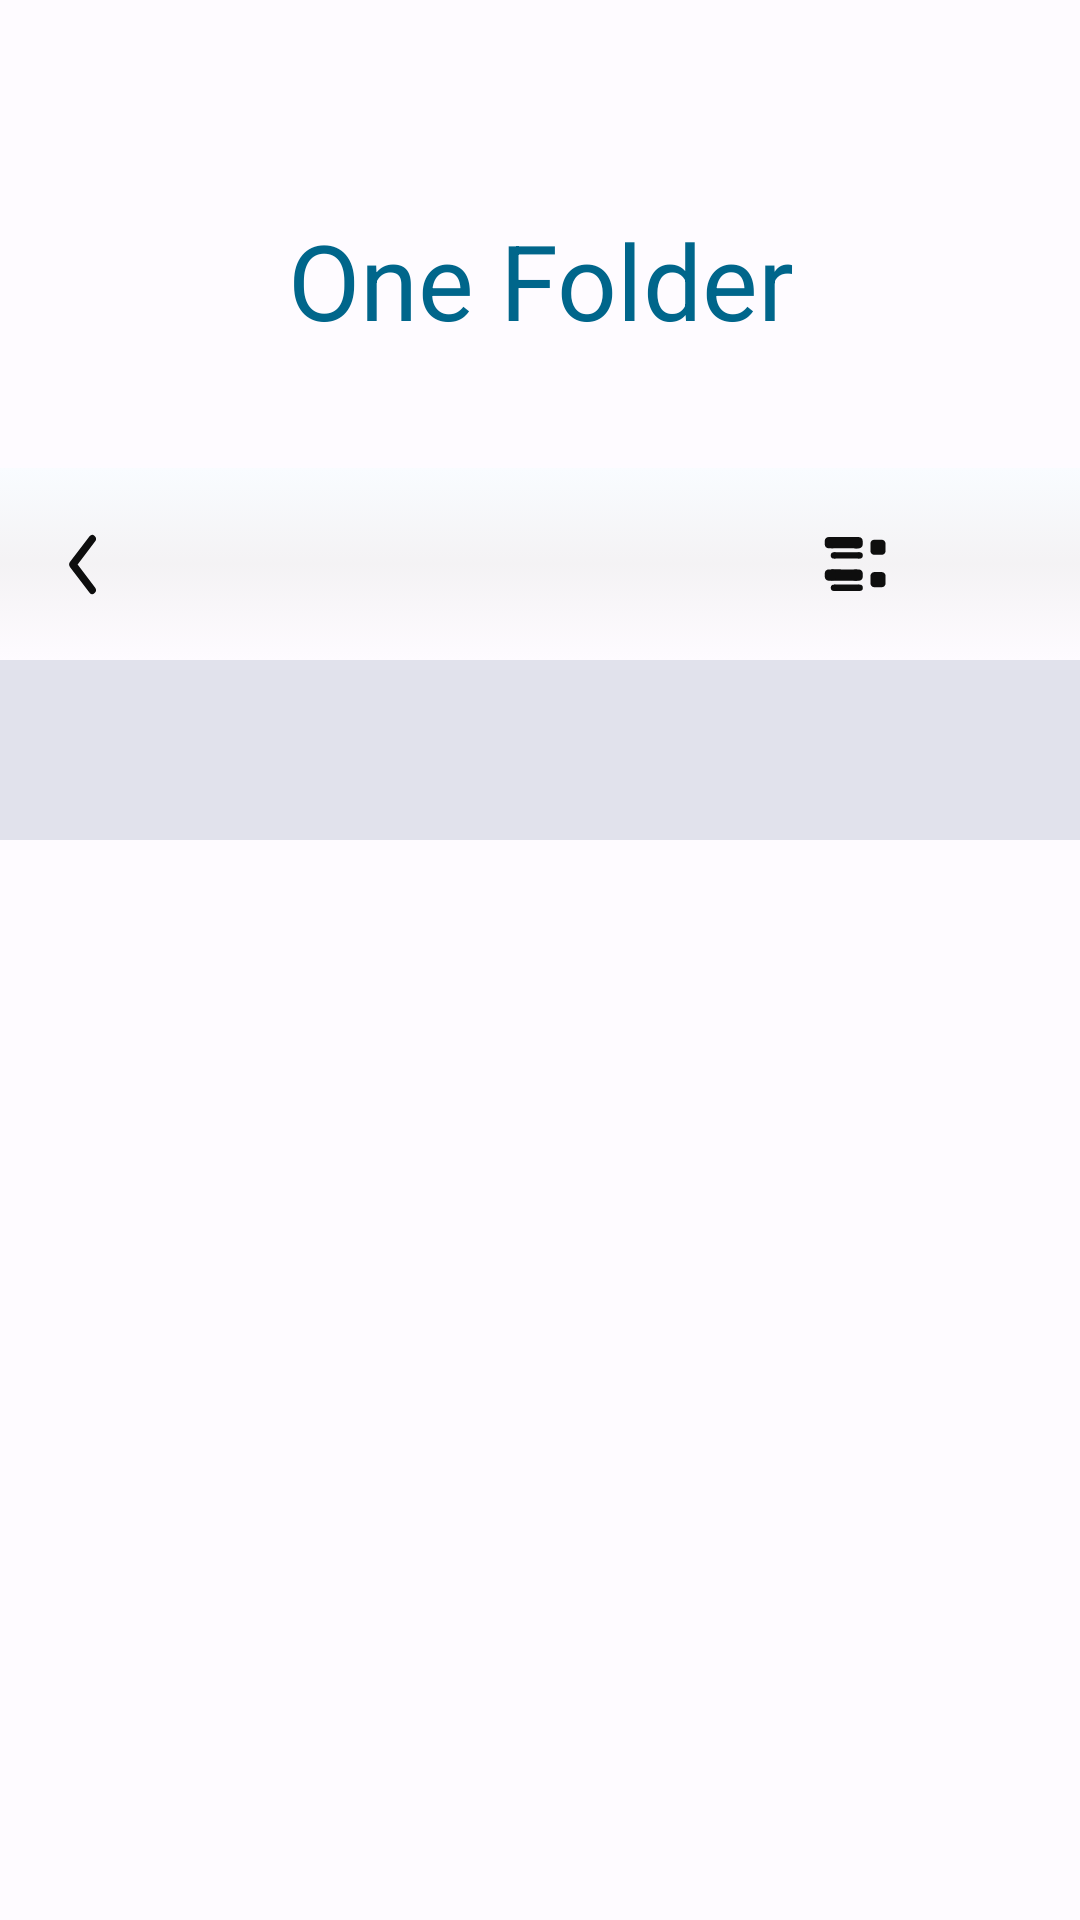

Named icons in this screenshot (1080×1920) and their centers, (x=x, y=y):
view list: (x=855, y=564)
